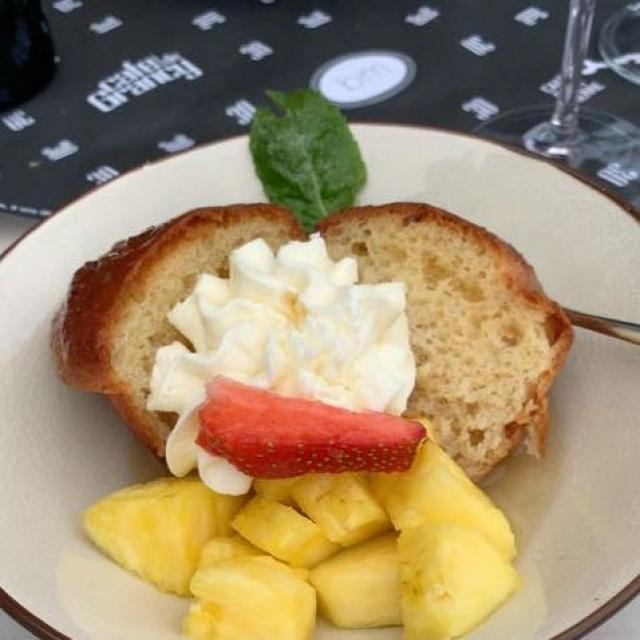cream: (157, 238, 425, 504)
pineapple: (95, 442, 537, 632)
strawberries: (202, 384, 423, 480)
tart: (71, 197, 576, 482)
